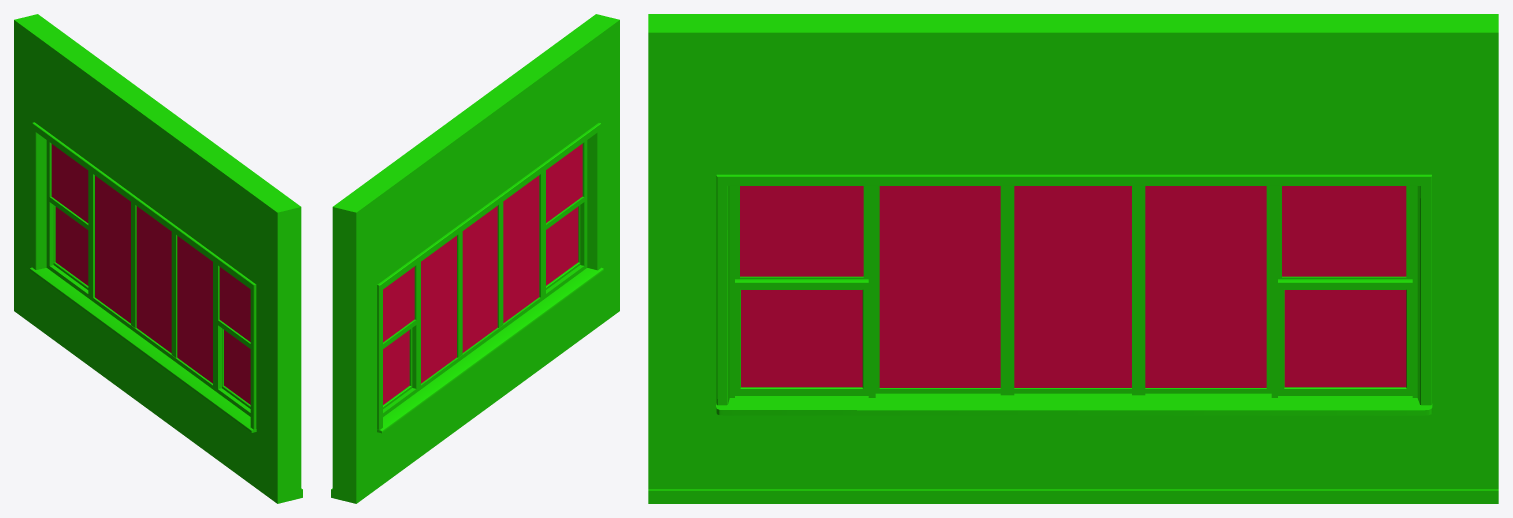
The model's file is Wall_.fbx.
3 views of the same model, side by side, from view 1: azimuth 30°, elevation 25°; view 2: azimuth 150°, elevation 25°; view 3: azimuth 270°, elevation 25° (orthographic). The views are drawn at different scales.
Parts seen in each view (by area): view 1: Wall_; view 2: Wall_; view 3: Wall_.
Boxes of the visible parts, left/top/right/bottom form: Wall_: left=14, top=14, right=302, bottom=503; Wall_: left=331, top=14, right=619, bottom=503; Wall_: left=648, top=14, right=1498, bottom=503.
Size of the model in its own units: 46.45 by 350 by 574.
